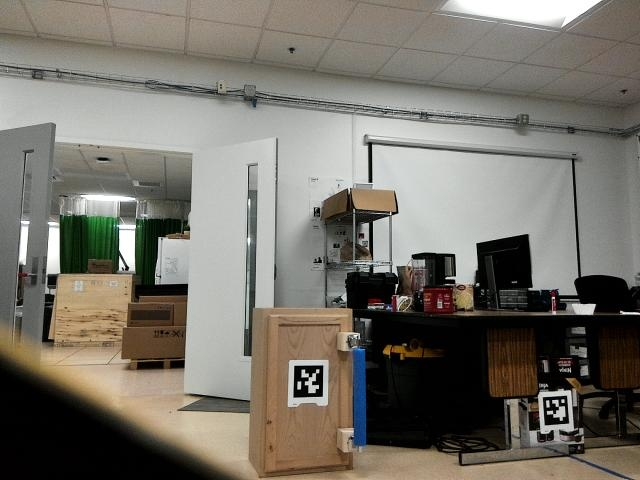noodle_handle: (348, 337, 370, 448)
